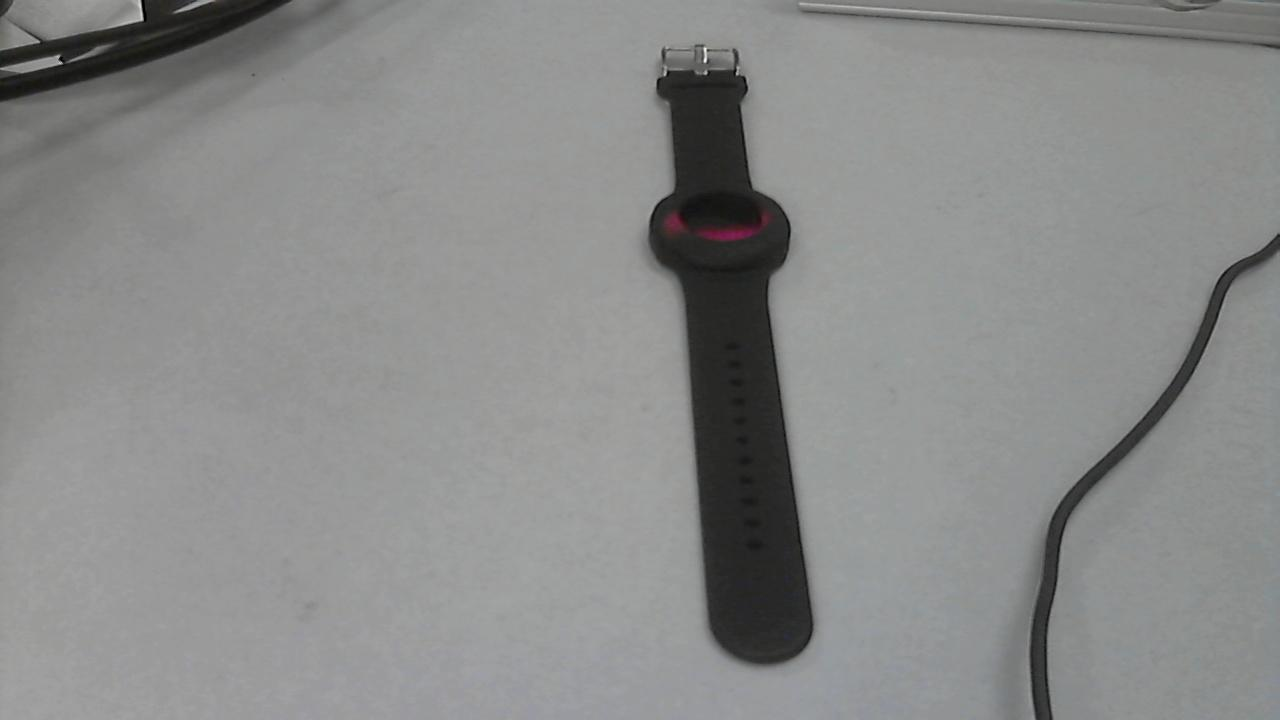Object fitness tracker replacement band - Material silicone - Pdfname fdfasdjhad: (658, 201, 786, 243)
